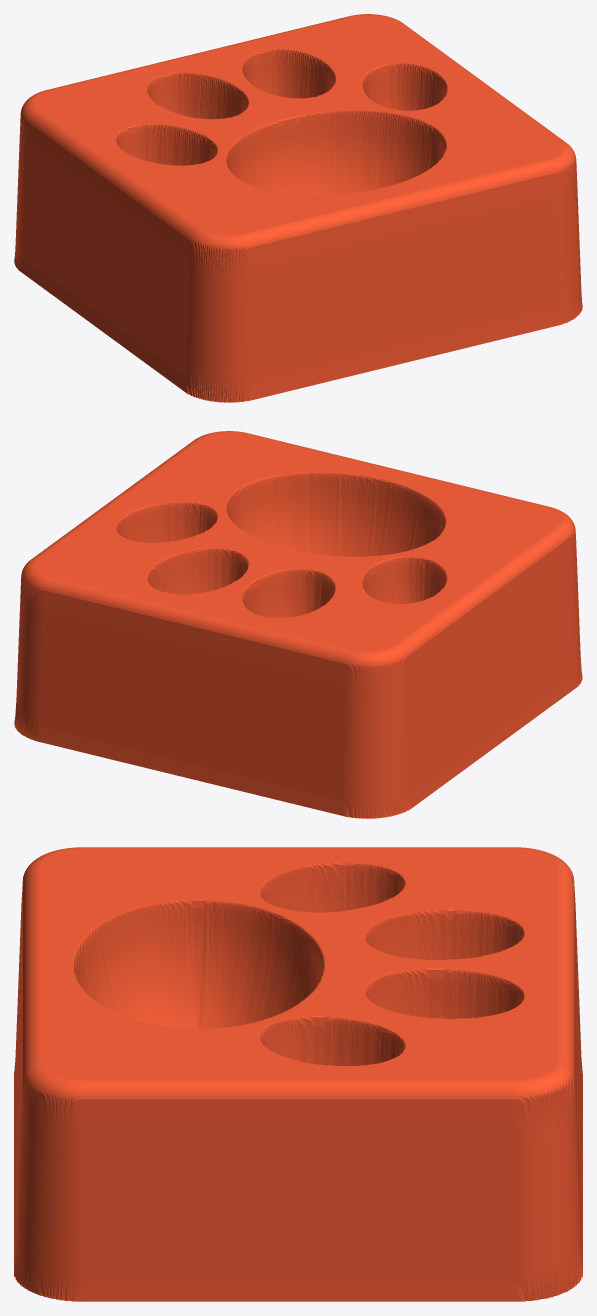
Rendered from mold.glb.
The picture shows the model from 3 angles, top to bottom: view 1: azimuth 30°, elevation 25°; view 2: azimuth 150°, elevation 25°; view 3: azimuth 270°, elevation 25°; orthographic projection. The views are drawn at different scales.
Parts seen in each view (by area): view 1: geometry_0; view 2: geometry_0; view 3: geometry_0.
Part boxes in pixels (<box>): geometry_0: <box>14,14,582,402</box>; geometry_0: <box>14,431,582,818</box>; geometry_0: <box>14,847,582,1301</box>.
Bounding box in the file's own units: 0.0798 × 0.031 × 0.0758.
